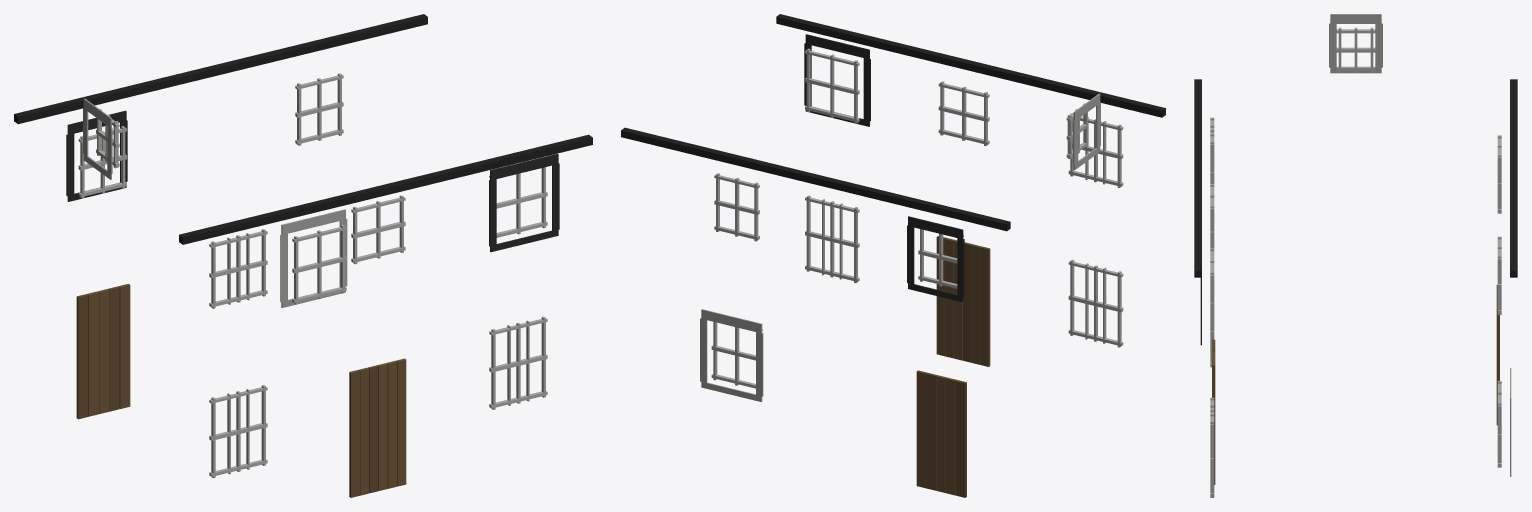
The model's file is SM_Bld_142_Wood.glb.
3 renders of one model, left to right at view 1: azimuth 30°, elevation 25°; view 2: azimuth 150°, elevation 25°; view 3: azimuth 270°, elevation 25°, orthographic. The views are drawn at different scales.
Visible parts, largest first — view 1: SM_Bld_142_Wood; view 2: SM_Bld_142_Wood; view 3: SM_Bld_142_Wood.
Boxes of the visible parts, bbox=[...] form: SM_Bld_142_Wood: bbox=[14, 14, 592, 497]; SM_Bld_142_Wood: bbox=[621, 14, 1165, 497]; SM_Bld_142_Wood: bbox=[1194, 14, 1517, 497].
Bounding box in the file's own units: 7.07 × 6.21 × 5.03.
